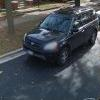Car: (18, 7, 96, 63)
